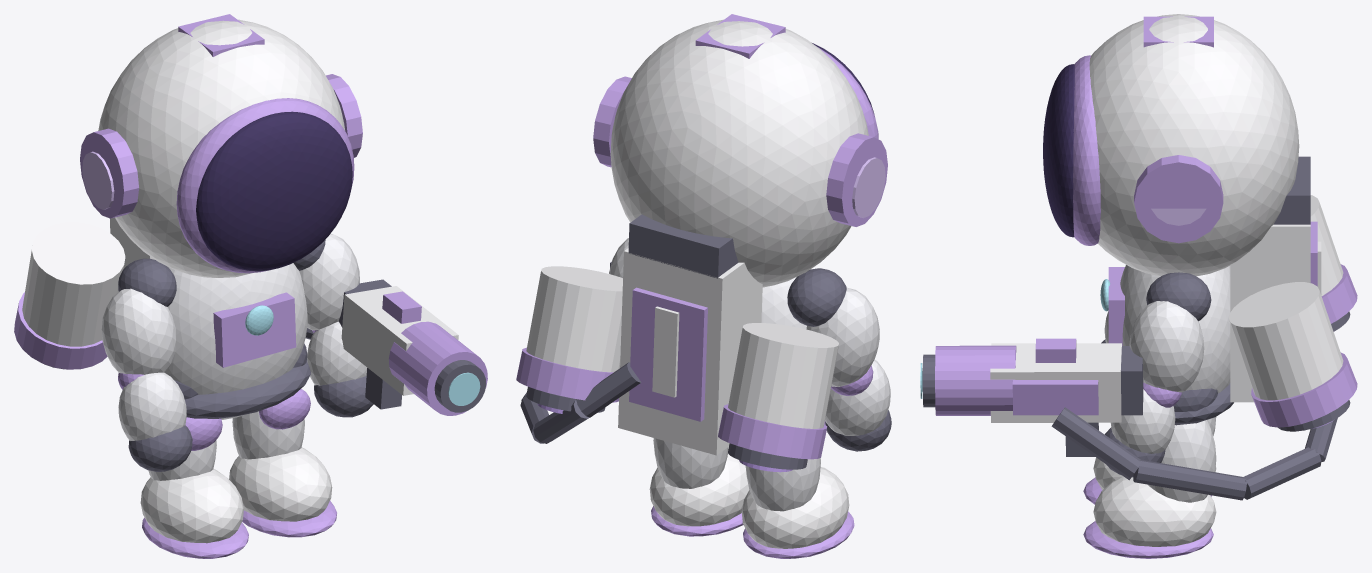
The model's file is OxygenTrooper_Aim.fbx.
3 renders of one model, left to right at view 1: azimuth 30°, elevation 25°; view 2: azimuth 150°, elevation 25°; view 3: azimuth 270°, elevation 25°, orthographic. The views are drawn at different scales.
Visible parts, largest first — view 1: Helmet_Shell, Visor_Tinted, Torso_Main, L_ThrusterBody, L_Boot, R_Boot, L_ArmUpper, Visor_Frame, Gun_MainBody, Gun_Barrel, Chest_Panel, L_Forearm (+23 smaller); view 2: Helmet_Shell, Tank_Main, L_ThrusterBody, R_ThrusterBody, Tank_FrontPlate, L_Boot, R_Boot, Tank_TopCap, L_ArmUpper, L_ThrusterPurple, Helmet_Earpad_-1, L_Forearm (+19 smaller); view 3: Helmet_Shell, R_ThrusterBody, R_Boot, Helmet_Earpad_1, Tank_Main, Gun_MainBody, Gun_Barrel, R_ArmUpper, Torso_Main, Visor_Frame, Visor_Tinted, R_ThrusterPurple (+22 smaller).
Part boxes in pixels (x1,y1,x2,y2): Helmet_Shell: [98, 19, 345, 277]; Visor_Tinted: [196, 111, 352, 271]; Torso_Main: [165, 263, 307, 419]; L_ThrusterBody: [22, 222, 125, 346]; L_Boot: [140, 469, 243, 543]; R_Boot: [229, 447, 332, 521]; L_ArmUpper: [101, 288, 176, 374]; Visor_Frame: [176, 98, 354, 273]; Gun_MainBody: [341, 286, 458, 395]; Gun_Barrel: [388, 321, 487, 415]; Chest_Panel: [213, 292, 296, 367]; L_Forearm: [118, 372, 186, 440]; Helmet_Shell: [610, 19, 868, 287]; Tank_Main: [618, 248, 762, 455]; L_ThrusterBody: [728, 323, 839, 428]; R_ThrusterBody: [526, 266, 622, 372]; Tank_FrontPlate: [629, 287, 707, 421]; L_Boot: [741, 467, 849, 548]; R_Boot: [649, 447, 749, 526]; Tank_TopCap: [628, 214, 738, 278]; L_ArmUpper: [806, 287, 879, 386]; L_ThrusterPurple: [718, 404, 827, 459]; Helmet_Earpad_-1: [826, 133, 887, 226]; L_Forearm: [825, 359, 890, 435]; Helmet_Shell: [1089, 14, 1299, 276]; R_ThrusterBody: [1228, 282, 1343, 400]; R_Boot: [1093, 476, 1216, 546]; Helmet_Earpad_1: [1134, 155, 1223, 243]; Tank_Main: [1230, 224, 1310, 402]; Gun_MainBody: [990, 343, 1121, 422]; Gun_Barrel: [935, 345, 1016, 415]; R_ArmUpper: [1129, 301, 1204, 392]; Torso_Main: [1120, 265, 1230, 393]; Visor_Frame: [1073, 55, 1100, 245]; Visor_Tinted: [1043, 64, 1074, 237]; R_ThrusterPurple: [1251, 352, 1357, 427].
Size of the model in its own units: 151 by 219 by 174.
